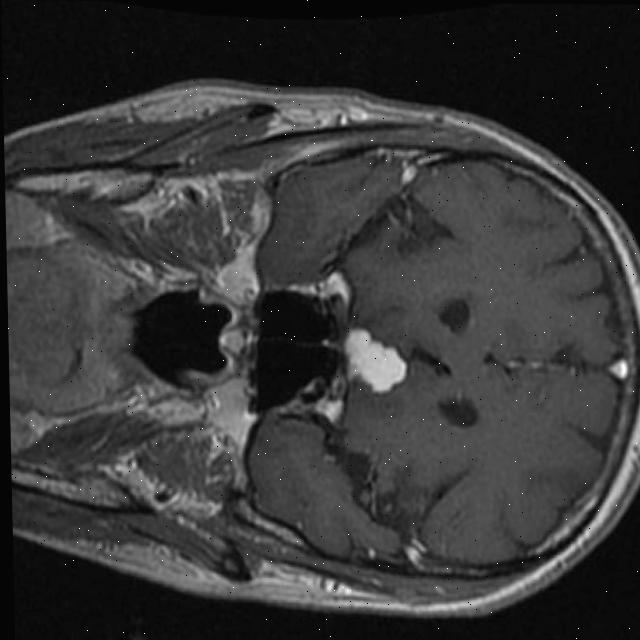Pituitary: (340, 328, 411, 394)
